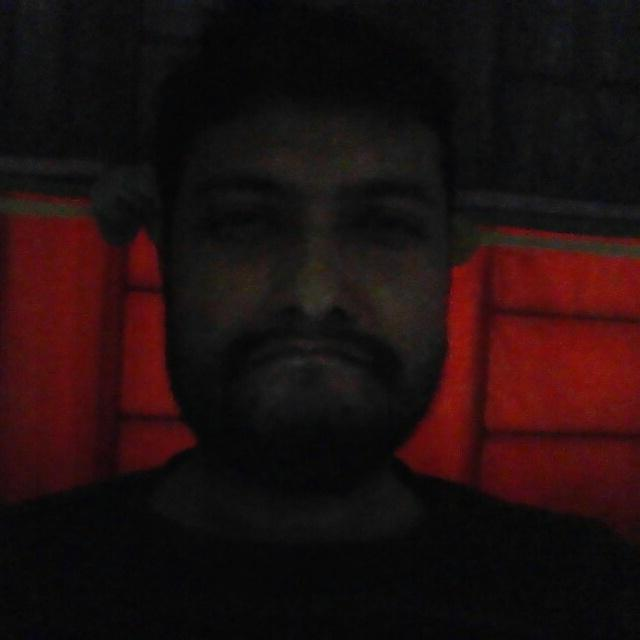Sad: (150, 75, 465, 518)
